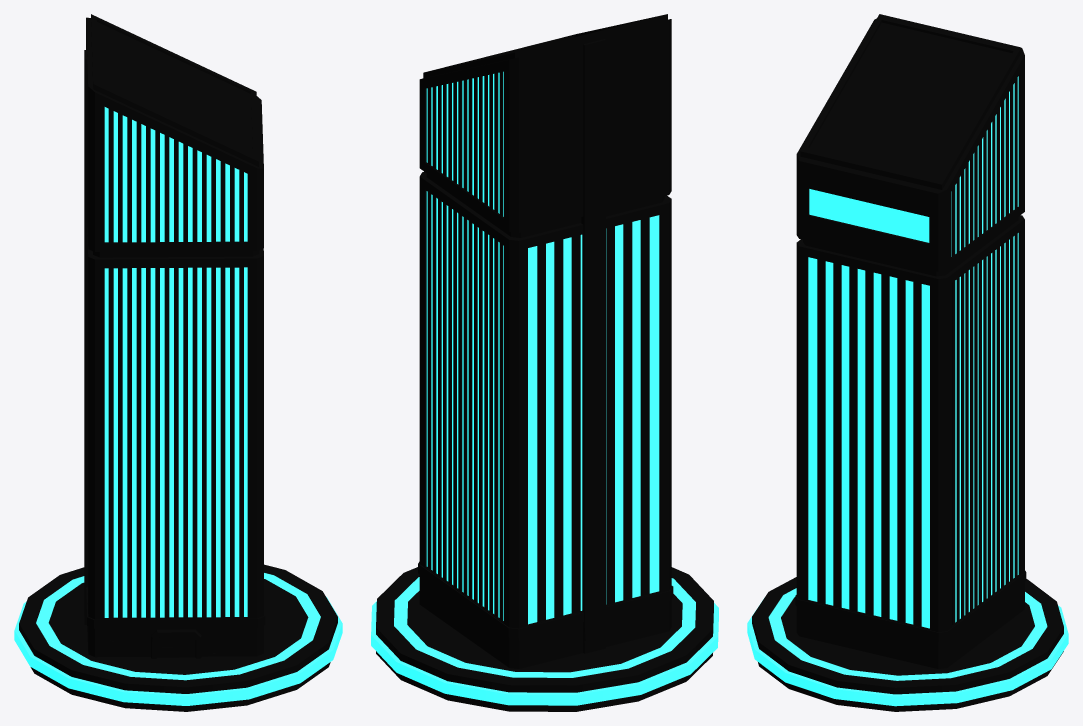
File: House1.fbx
3 views of the same model, side by side, from view 1: azimuth 30°, elevation 25°; view 2: azimuth 150°, elevation 25°; view 3: azimuth 270°, elevation 25° (orthographic). The views are drawn at different scales.
Visible parts, largest first — view 1: House1; view 2: House1; view 3: House1.
Boxes of the visible parts, <box> form: House1: <box>14,14,342,711</box>; House1: <box>371,14,718,711</box>; House1: <box>747,14,1068,711</box>.
Bounding box in the file's own units: 2126 × 4358 × 2126.
